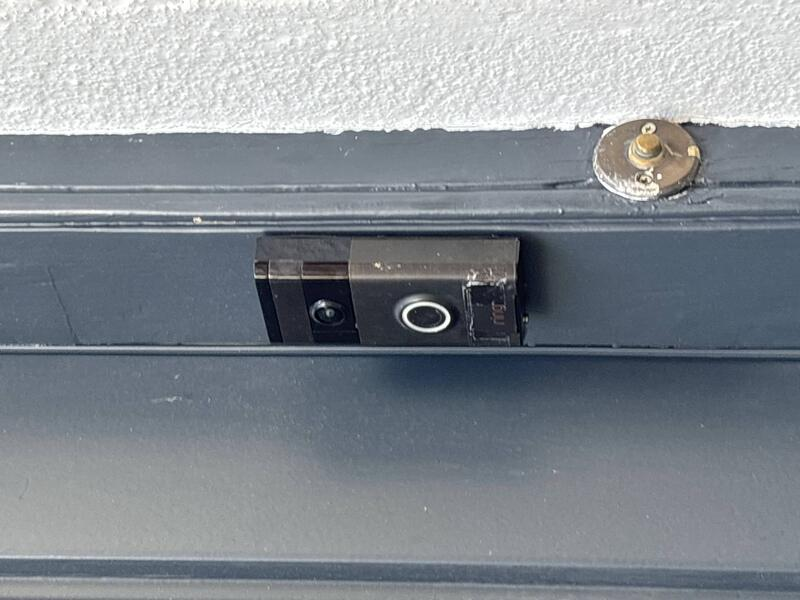doorbell: (244, 250, 379, 537)
